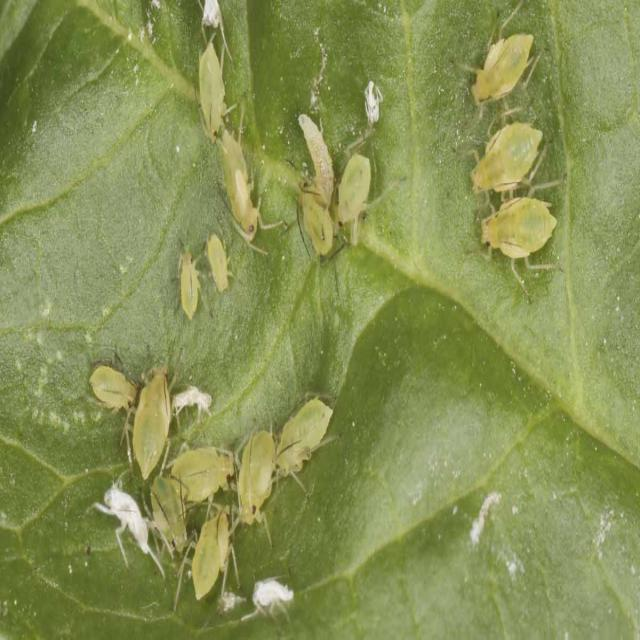Aphid-Grown-: (454, 8, 553, 120), (471, 176, 565, 292), (461, 100, 552, 216), (210, 115, 276, 244), (177, 500, 255, 608), (230, 414, 288, 536), (326, 117, 374, 260), (271, 389, 340, 481), (129, 364, 181, 485), (185, 38, 237, 151), (167, 438, 244, 506), (83, 341, 140, 426), (144, 470, 194, 562), (169, 235, 216, 329), (198, 217, 244, 307)
